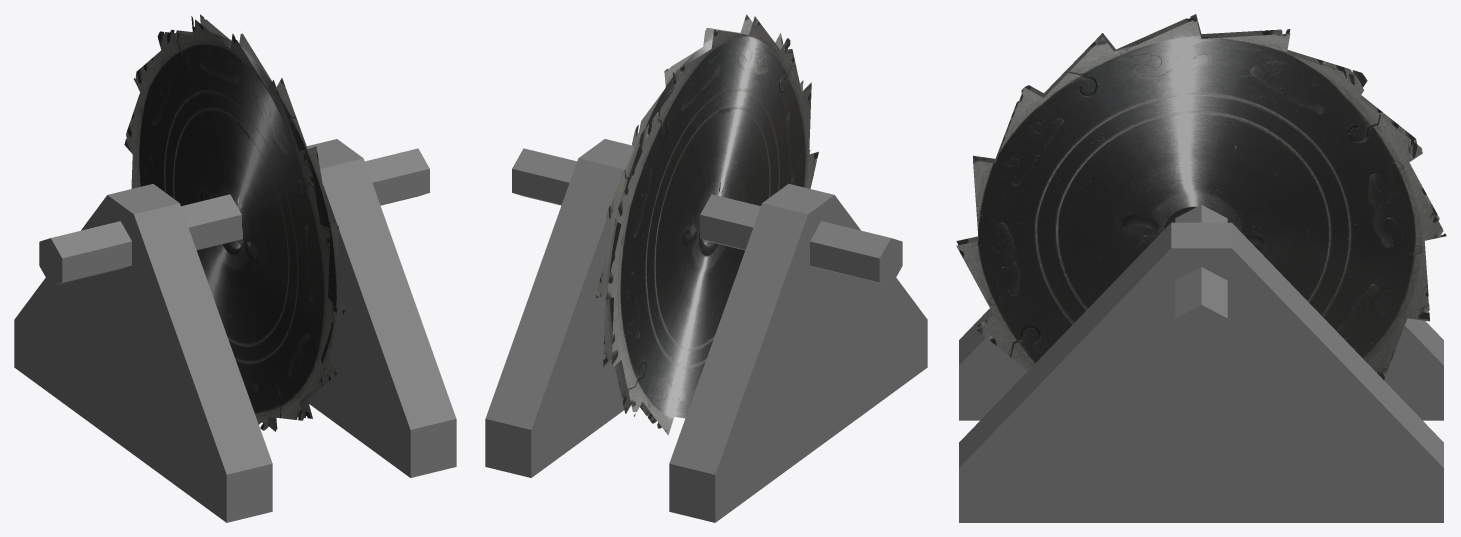
Rendered from saw_blade_assembly.obj.
3 renders of one model, left to right at view 1: azimuth 30°, elevation 25°; view 2: azimuth 150°, elevation 25°; view 3: azimuth 270°, elevation 25°, orthographic. The views are drawn at different scales.
Visible parts, largest first — view 1: Chassis, Saw; view 2: Chassis, Saw; view 3: Chassis, Saw.
Part boxes in pixels (x1=…): Chassis: x1=14, y1=139, x2=456, y2=522; Saw: x1=124, y1=14, x2=345, y2=431; Chassis: x1=485, y1=139, x2=927, y2=522; Saw: x1=596, y1=14, x2=818, y2=435; Chassis: x1=959, y1=205, x2=1443, y2=522; Saw: x1=956, y1=14, x2=1446, y2=379.
Bounding box in the file's own units: 1 × 1.01 × 1.01.
